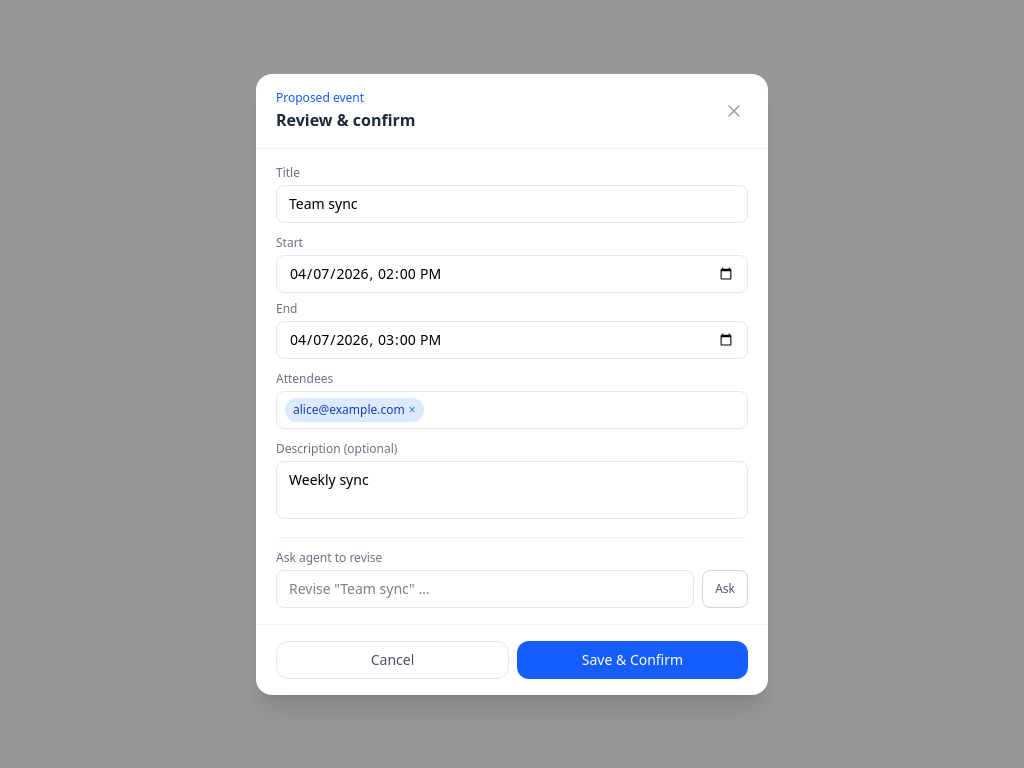
Scenario: EventModal › removes attendee chip on × click
Press the mouse on the button named "remove alice" at [412, 410], box [409,404,416,416]
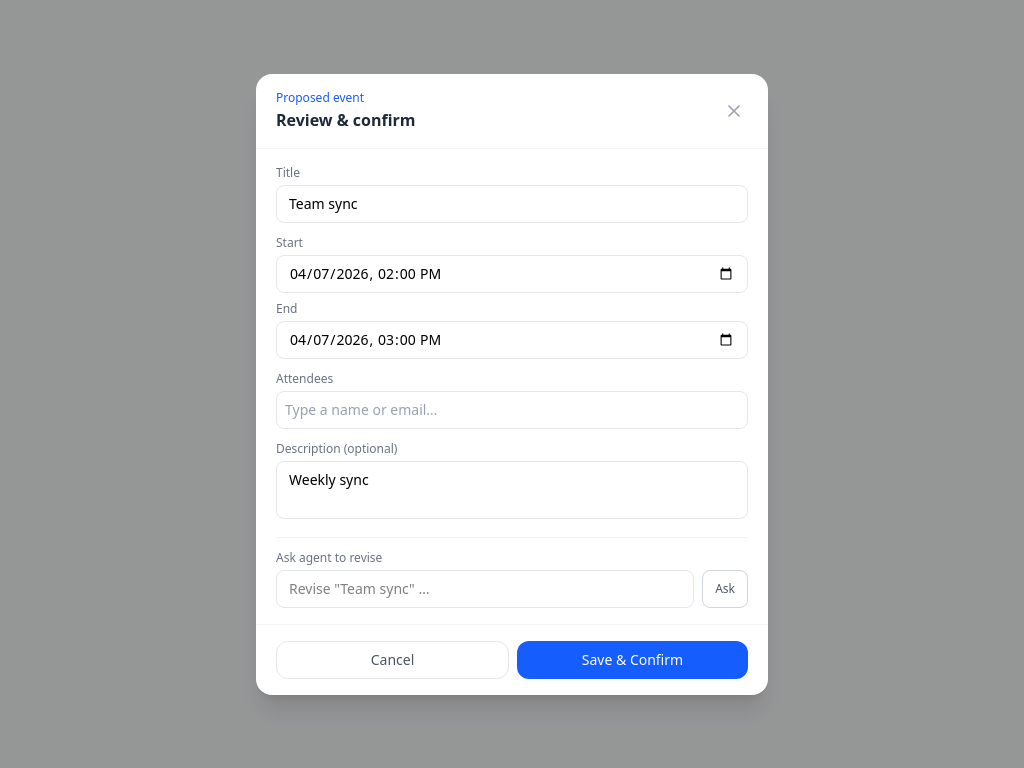
Check: the text "alice@example.com" is gone
